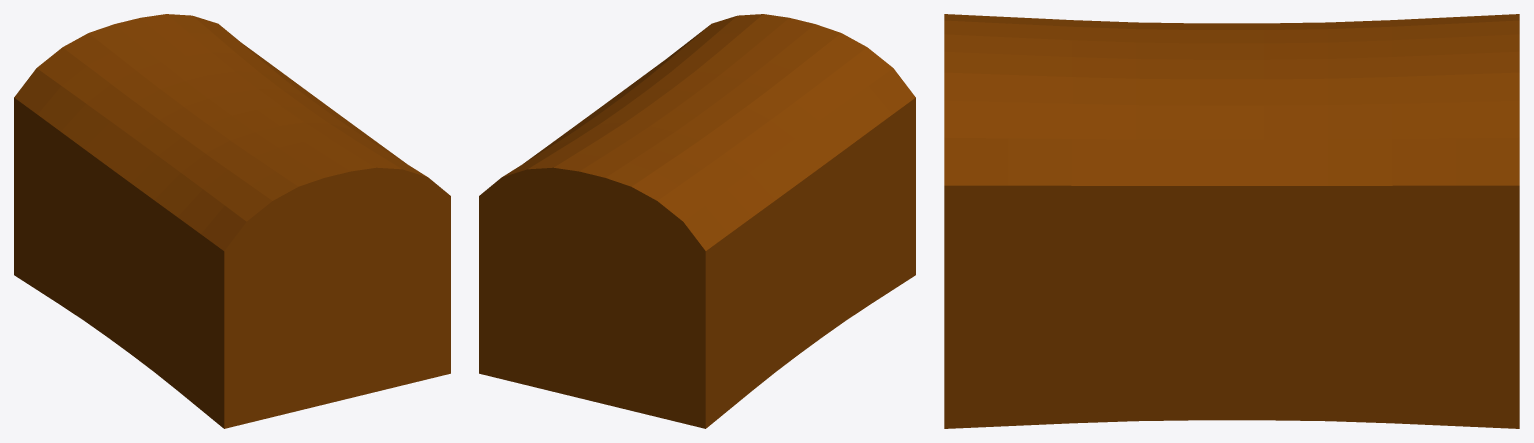
Rendered from Bread.fbx.
3 renders of one model, left to right at view 1: azimuth 30°, elevation 25°; view 2: azimuth 150°, elevation 25°; view 3: azimuth 270°, elevation 25°, orthographic. The views are drawn at different scales.
Visible parts, largest first — view 1: Cube.024; view 2: Cube.024; view 3: Cube.024.
Part boxes in pixels (x1,y1,x2,y2): Cube.024: (14, 14, 450, 428); Cube.024: (479, 14, 915, 428); Cube.024: (944, 14, 1519, 428).
Size of the model in its own units: 48.23 by 46.07 by 77.41.
